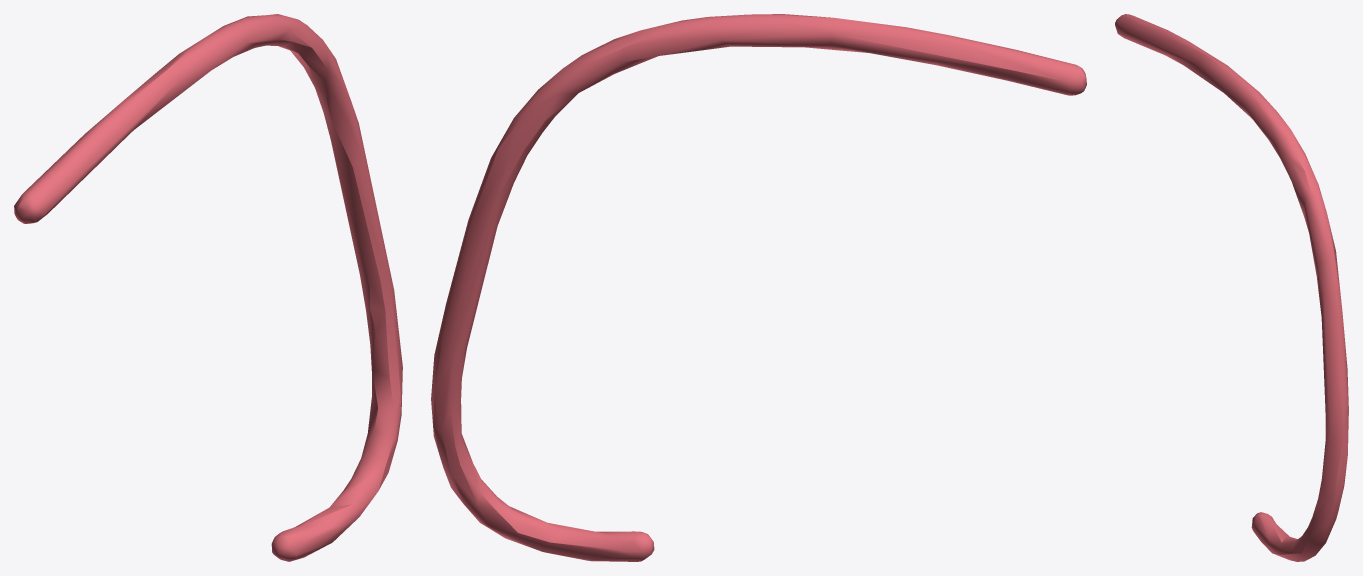
File: fma14829_fj3428.glb
3 views of the same model, side by side, from view 1: azimuth 30°, elevation 25°; view 2: azimuth 150°, elevation 25°; view 3: azimuth 270°, elevation 25° (orthographic). The views are drawn at different scales.
Parts seen in each view (by area): view 1: FMA14829_FJ3428; view 2: FMA14829_FJ3428; view 3: FMA14829_FJ3428.
Part boxes in pixels (x1,y1,x2,y2): FMA14829_FJ3428: [14, 14, 402, 561]; FMA14829_FJ3428: [431, 14, 1086, 561]; FMA14829_FJ3428: [1115, 14, 1348, 561].
Bounding box in the file's own units: 0.0372 × 0.0384 × 0.0192.
